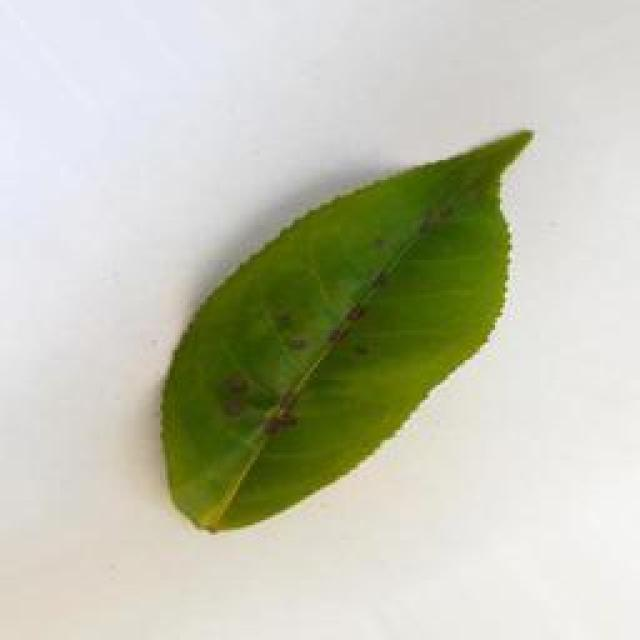Helopeltis: (148, 129, 540, 537)
